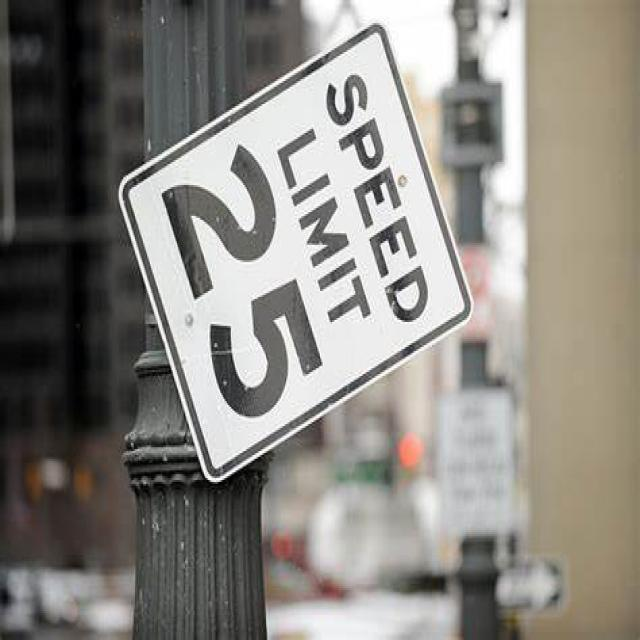speedLimit25: (121, 20, 473, 480)
